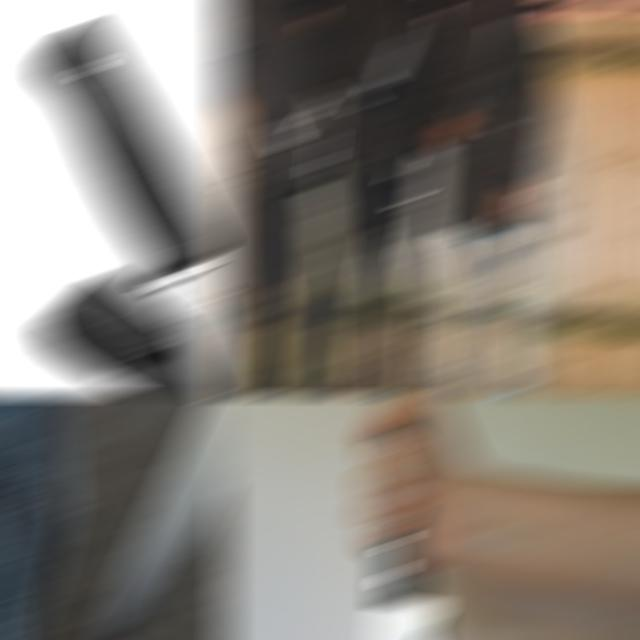Knife: (38, 27, 232, 394), (88, 398, 232, 638), (370, 517, 444, 638)
Knife_Handle: (80, 398, 232, 638), (331, 398, 474, 638), (431, 19, 511, 147), (349, 30, 418, 113), (268, 96, 337, 151)
